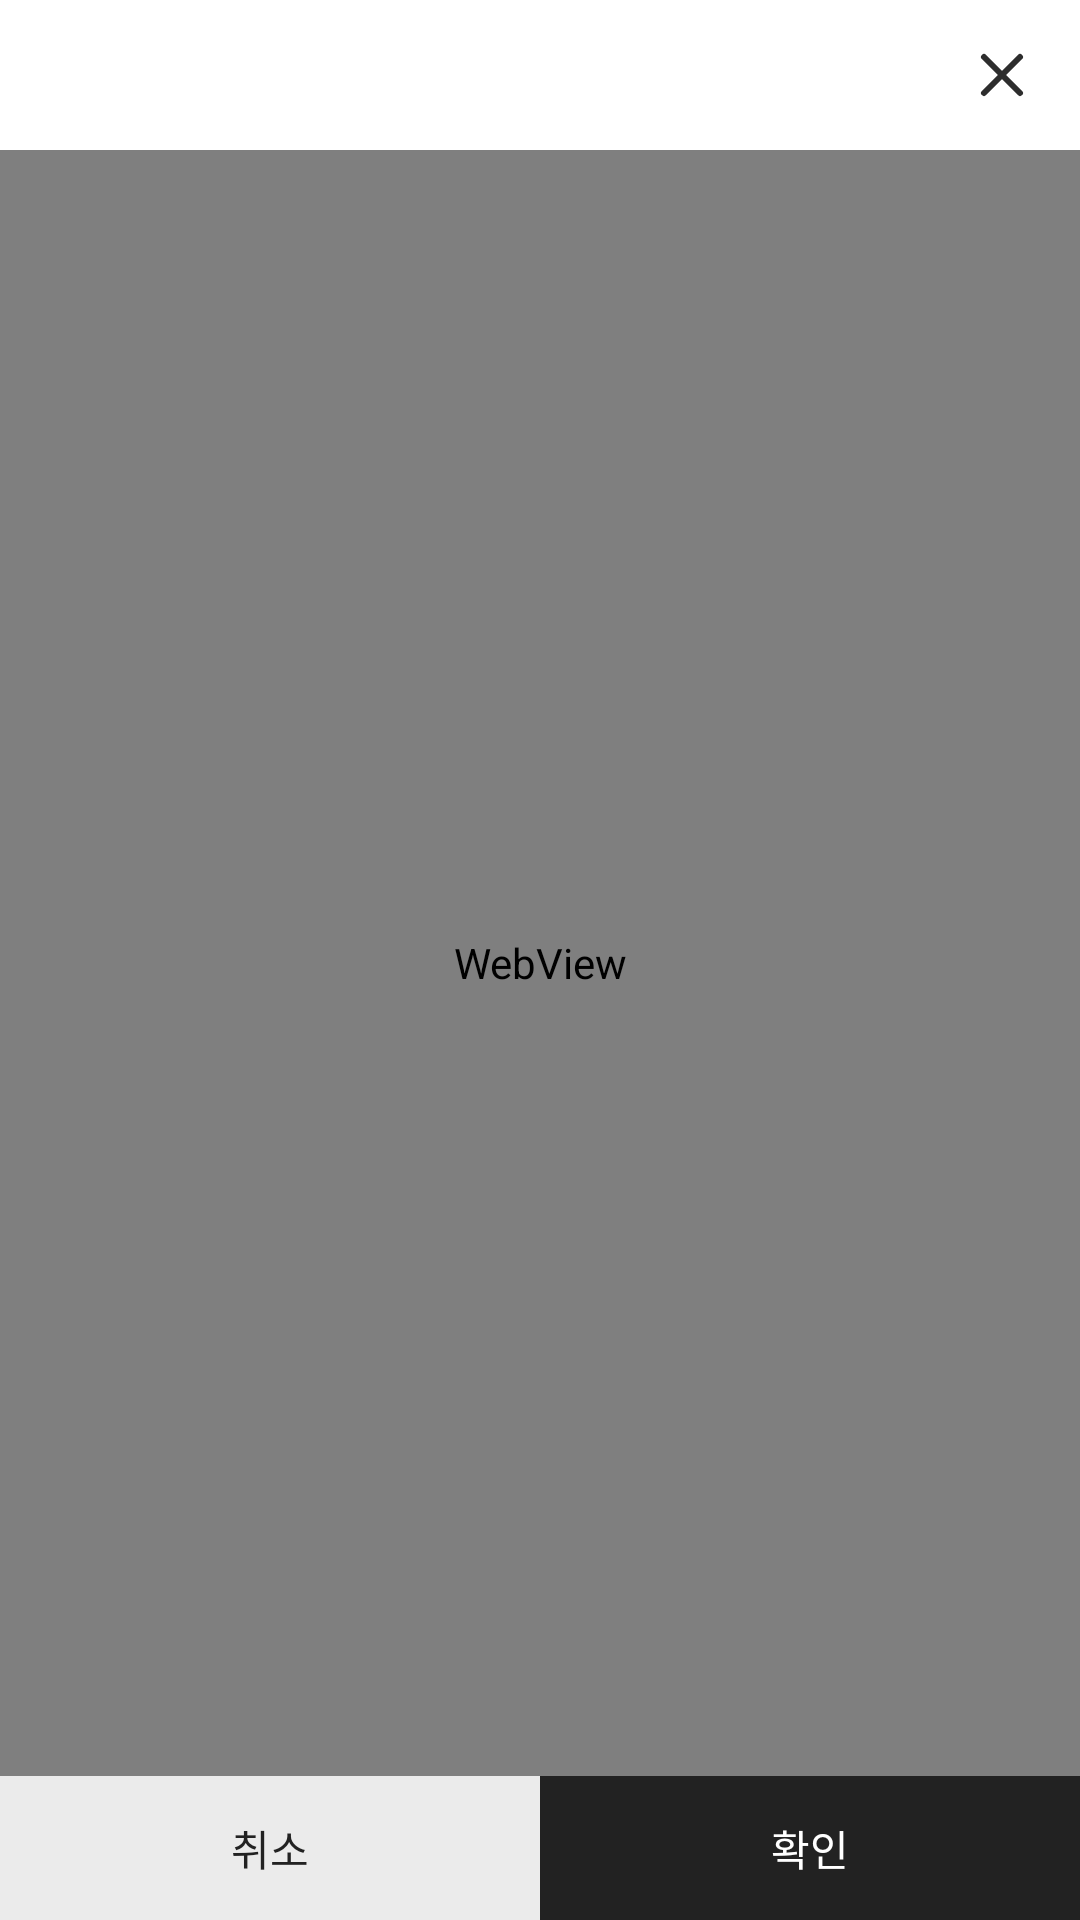

Icons on this 1080x1920 Android screen, each with the point to tap as point (x, y):
close medium: point (1002, 74)
